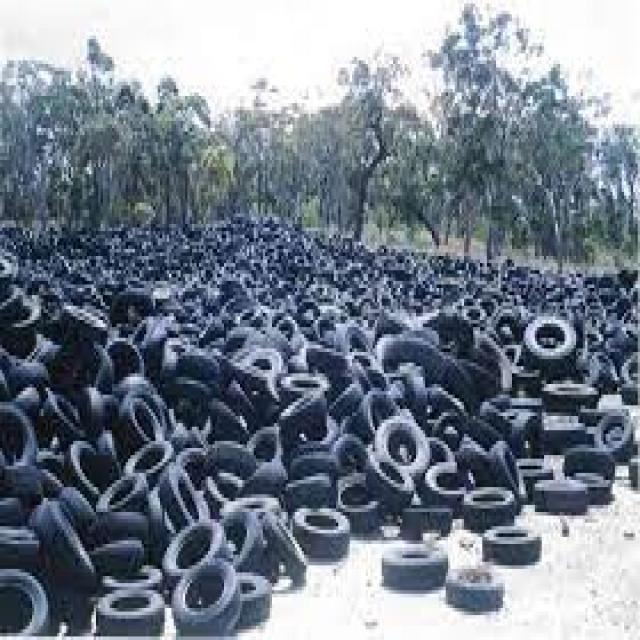Rubber -Non-Biodegradable but Recyclable-: (0, 223, 640, 638)
